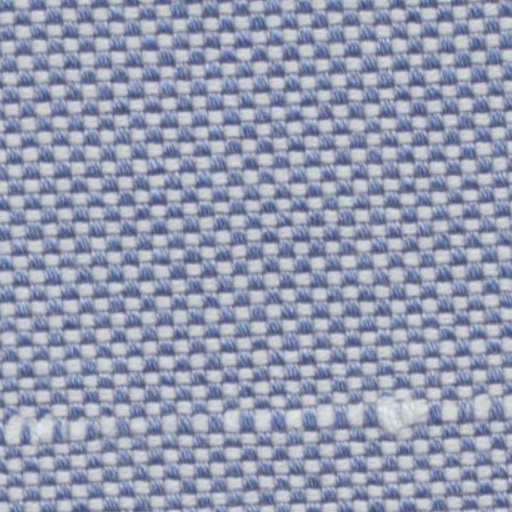DaiSha: (10, 387, 500, 451)
